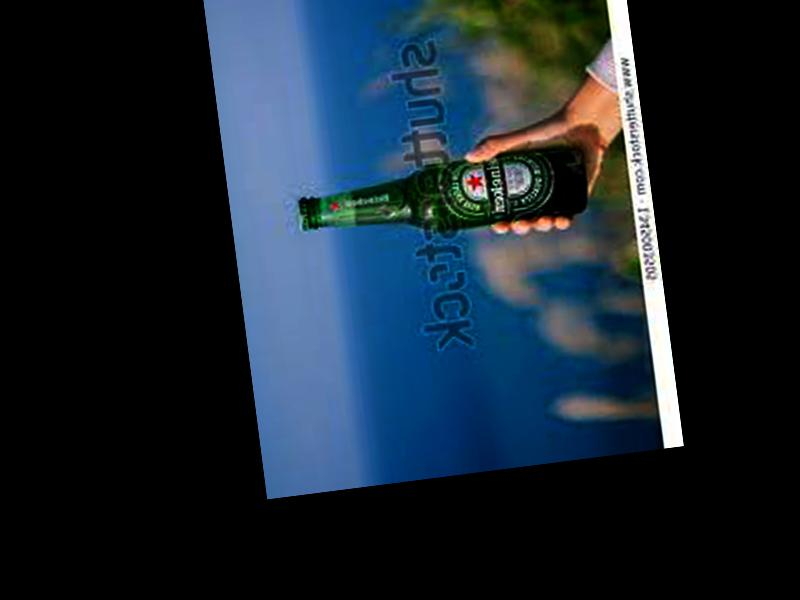Beer: (294, 143, 591, 248)
